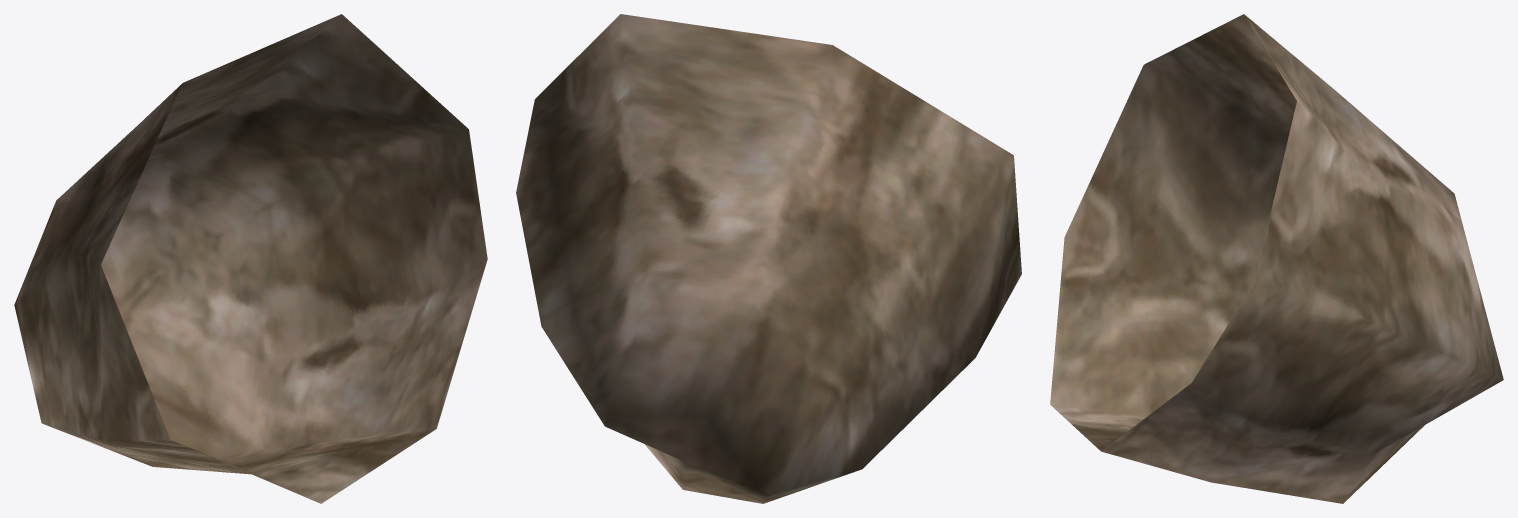
The model's file is OVERHILL_A_01_ROCK43.fbx.
The picture shows the model from 3 angles, left to right: view 1: azimuth 30°, elevation 25°; view 2: azimuth 150°, elevation 25°; view 3: azimuth 270°, elevation 25°; orthographic projection.
Parts seen in each view (by area): view 1: OVERHILL_A_01_ROCK43; view 2: OVERHILL_A_01_ROCK43; view 3: OVERHILL_A_01_ROCK43.
Part boxes in pixels (x1,y1,x2,y2): OVERHILL_A_01_ROCK43: [14, 14, 487, 503]; OVERHILL_A_01_ROCK43: [516, 14, 1021, 503]; OVERHILL_A_01_ROCK43: [1050, 14, 1503, 503].
Size of the model in its own units: 27147 by 26798 by 24769.
1 material, 1 textured.
